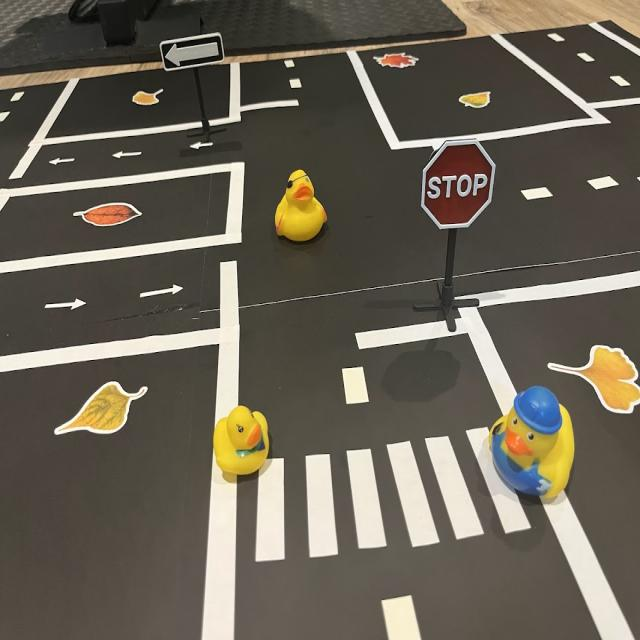duck_regular: (211, 401, 271, 482)
duck_specialty: (484, 378, 581, 505), (272, 169, 332, 249)
road_crosswalk: (250, 424, 536, 566)
road_oneway: (137, 281, 186, 302), (42, 296, 88, 317), (45, 153, 81, 169), (111, 149, 146, 161), (188, 139, 217, 153)
sign_oneway_left: (161, 36, 229, 70)
sign_stop: (423, 141, 495, 231)
